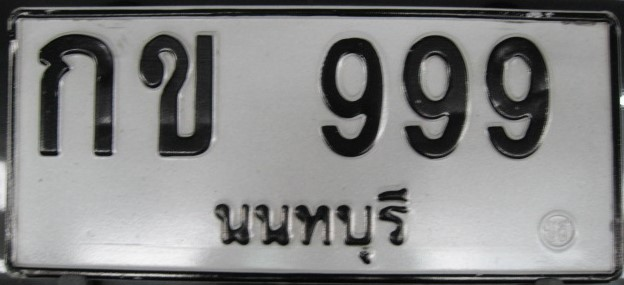txt01: (34, 30, 118, 160)
txt02: (135, 29, 219, 160)
